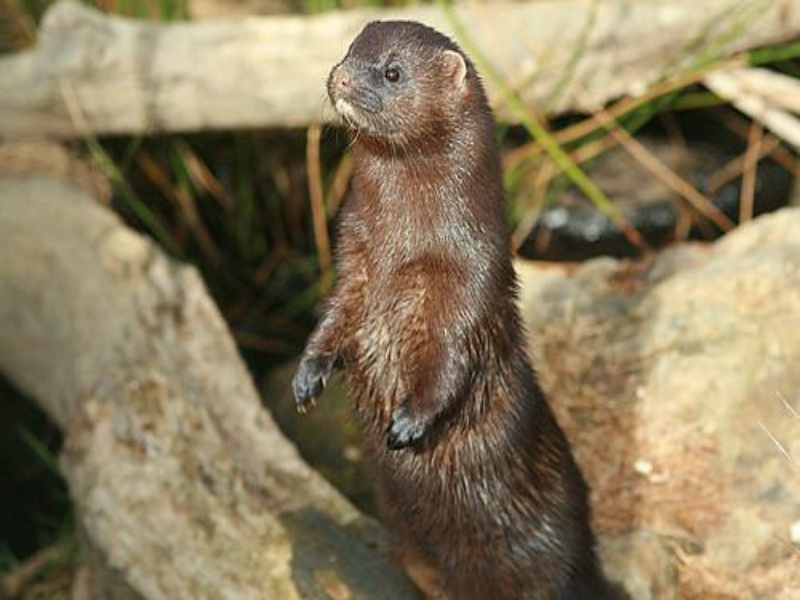minkish: (288, 18, 611, 596)
